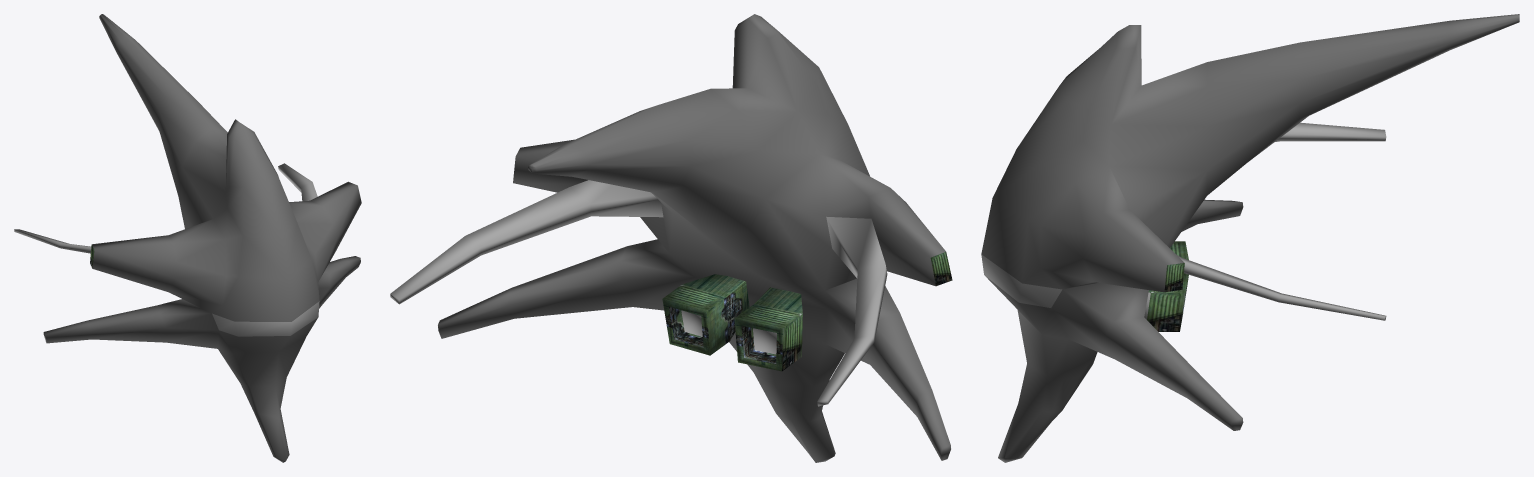
Rendered from MItransport.dae.
3 views of the same model, side by side, from view 1: azimuth 30°, elevation 25°; view 2: azimuth 150°, elevation 25°; view 3: azimuth 270°, elevation 25° (orthographic). The views are drawn at different scales.
Visible parts, largest first — view 1: Plane; view 2: Plane; view 3: Plane.
Part boxes in pixels (bbox=[...]): Plane: bbox=[14, 14, 361, 462]; Plane: bbox=[390, 14, 952, 462]; Plane: bbox=[981, 14, 1519, 462].
Size of the model in its own units: 8.33 by 7.97 by 8.67.
Materials: 9 (4 with a texture image).
